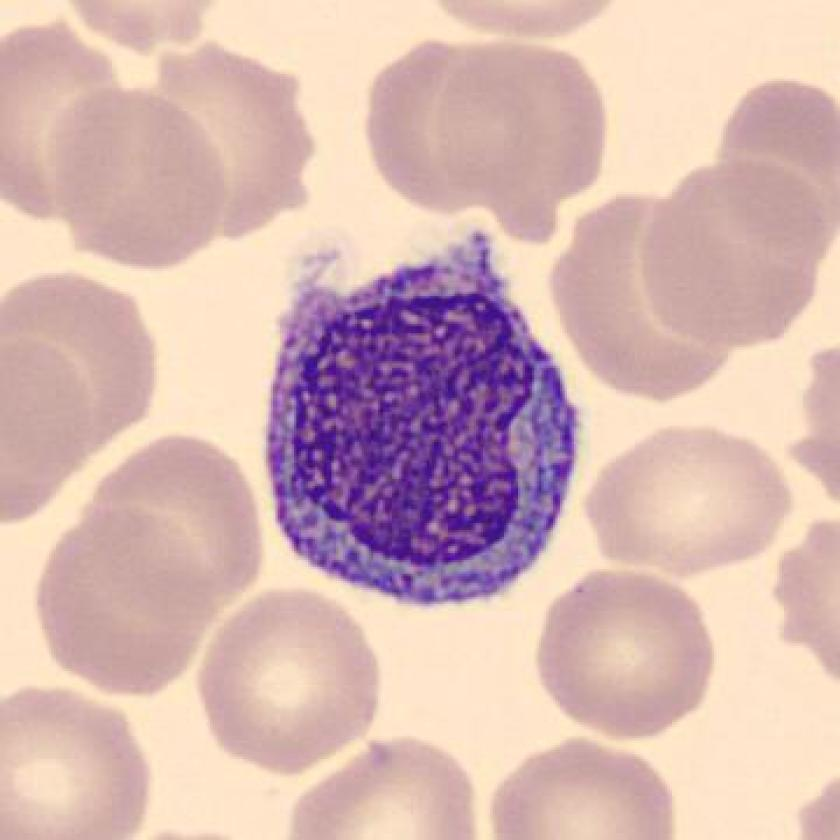monocyte: (248, 221, 603, 630)
